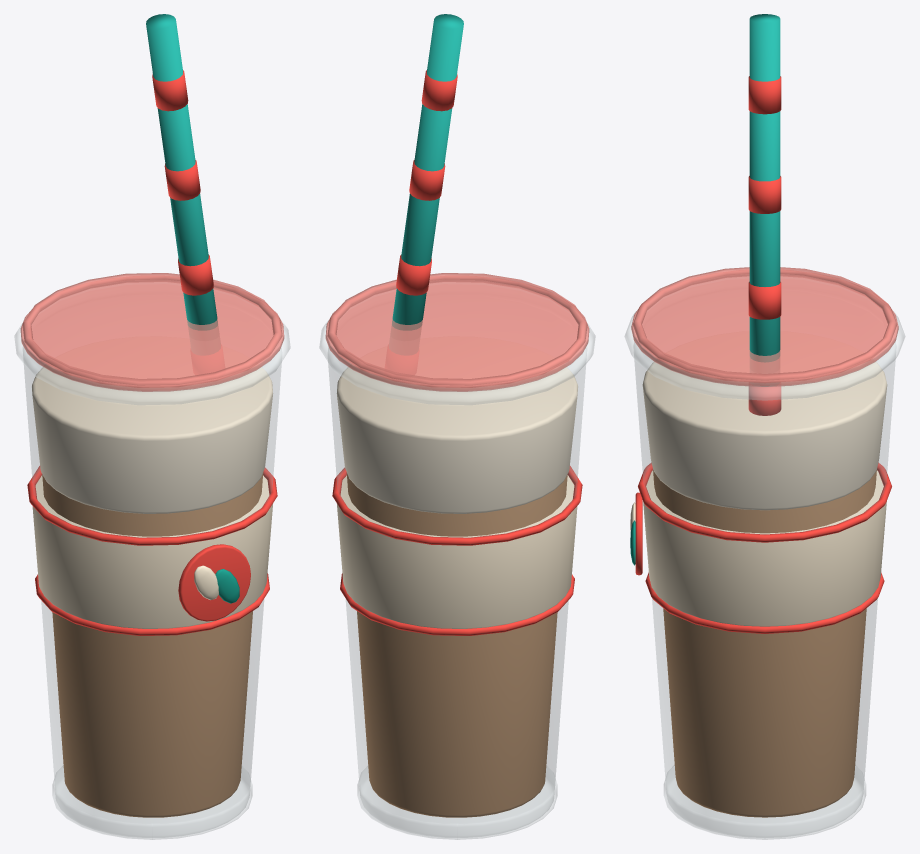
Rendered from milk_tea_cup.glb.
3 renders of one model, left to right at view 1: azimuth 30°, elevation 25°; view 2: azimuth 150°, elevation 25°; view 3: azimuth 270°, elevation 25°, orthographic.
Parts seen in each view (by area): view 1: Cup, LiquidTea, LiquidMilk, BrandWrap, SealFilm, Straw; view 2: Cup, LiquidTea, LiquidMilk, BrandWrap, SealFilm, Straw; view 3: Cup, LiquidTea, LiquidMilk, BrandWrap, SealFilm, Straw.
Boxes of the visible parts, x1,y1,x2,y2 form: Cup: [14, 320, 290, 839]; LiquidTea: [42, 472, 263, 817]; LiquidMilk: [32, 367, 273, 513]; BrandWrap: [27, 466, 277, 635]; SealFilm: [20, 273, 284, 391]; Straw: [146, 14, 217, 330]; Cup: [319, 320, 595, 839]; LiquidTea: [346, 472, 567, 817]; LiquidMilk: [336, 367, 577, 513]; BrandWrap: [332, 466, 582, 635]; SealFilm: [325, 273, 589, 391]; Straw: [392, 14, 463, 330]; Cup: [624, 311, 905, 839]; LiquidTea: [653, 470, 876, 817]; LiquidMilk: [642, 362, 887, 510]; BrandWrap: [630, 463, 891, 633]; SealFilm: [631, 267, 898, 386]; Straw: [748, 14, 781, 415].
Size of the model in its own units: 0.0916 by 0.2824 by 0.0916.
